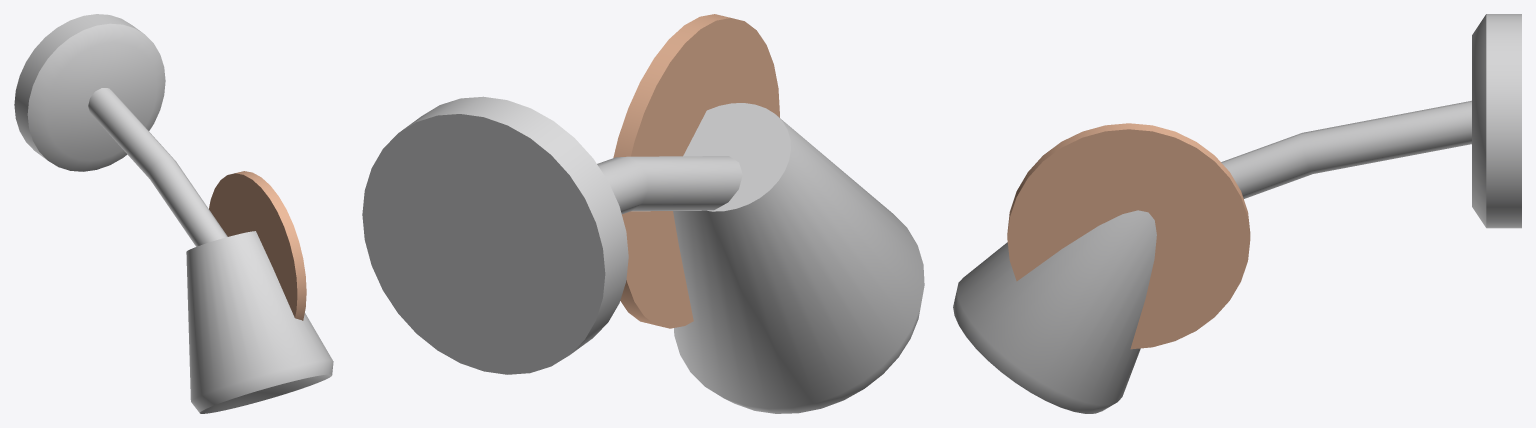
Rendered from recKqN9RT3J1tMVAt.glb.
3 renders of one model, left to right at view 1: azimuth 30°, elevation 25°; view 2: azimuth 150°, elevation 25°; view 3: azimuth 270°, elevation 25°, orthographic. The views are drawn at different scales.
Visible parts, largest first — view 1: spot_coin_bureau_Corps; view 2: spot_coin_bureau_Corps; view 3: spot_coin_bureau_Corps.
Boxes of the visible parts, x1,y1,x2,y2 form: spot_coin_bureau_Corps: [14, 14, 333, 413]; spot_coin_bureau_Corps: [362, 14, 924, 413]; spot_coin_bureau_Corps: [953, 14, 1521, 413].
Bounding box in the file's own units: 0.06 × 0.1161 × 0.1592.
